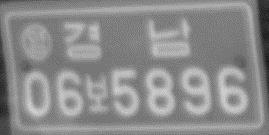0: (21, 70, 53, 119)
5: (110, 67, 141, 117)
6: (216, 65, 250, 116), (56, 69, 84, 117)
8: (145, 66, 177, 118)
9: (179, 67, 211, 116)
경남_D: (62, 16, 194, 61)
보: (84, 71, 111, 113)
영: (19, 23, 54, 63)
